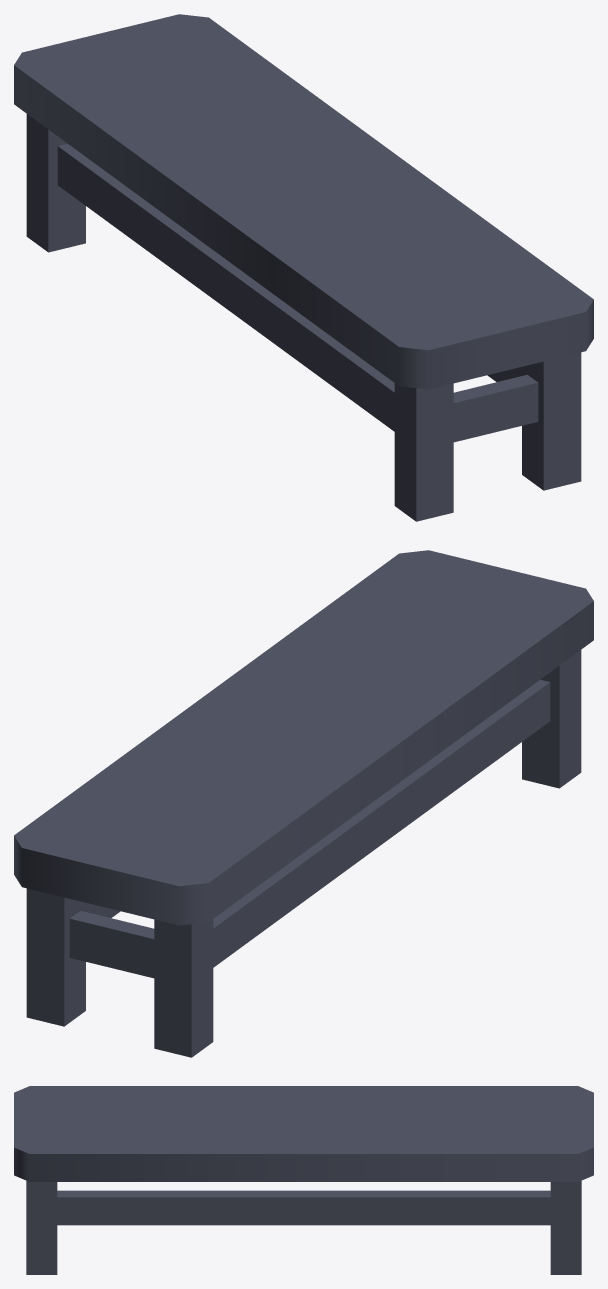
The model's file is stall-bench.glb.
3 renders of one model, top to bottom at view 1: azimuth 30°, elevation 25°; view 2: azimuth 150°, elevation 25°; view 3: azimuth 270°, elevation 25°, orthographic. The views are drawn at different scales.
Parts seen in each view (by area): view 1: stall-bench; view 2: stall-bench; view 3: stall-bench.
Boxes of the visible parts, box(x1,y1,x2,y2) form: stall-bench: box(14, 14, 593, 521); stall-bench: box(14, 550, 593, 1057); stall-bench: box(14, 1086, 593, 1274).
Bounding box in the file's own units: 0.26 × 0.2255 × 0.94.
Materials: 1 (1 with a texture image).
